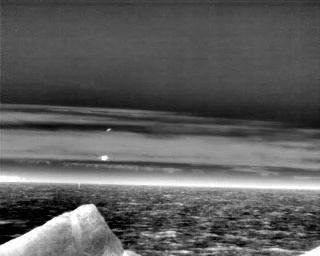HELICOPTER: (97, 151, 112, 164)
